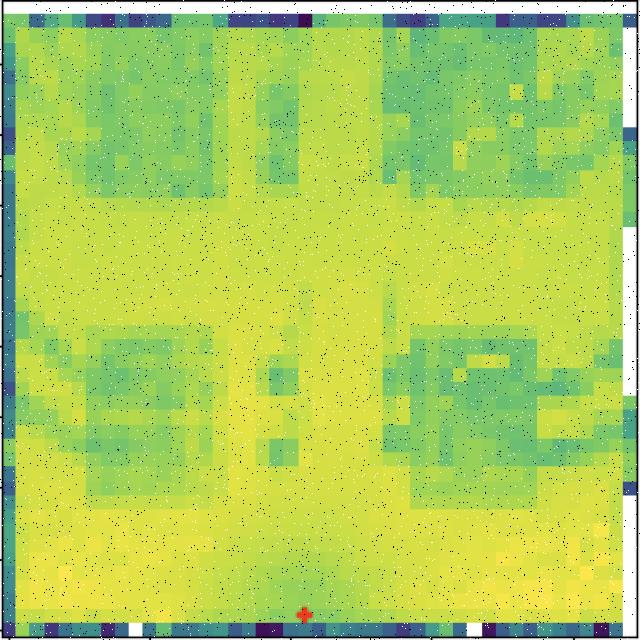Concrete: (80, 32, 232, 213)
Glass: (389, 320, 542, 514)
Metal: (76, 318, 234, 512)
Wood: (379, 32, 547, 203)
